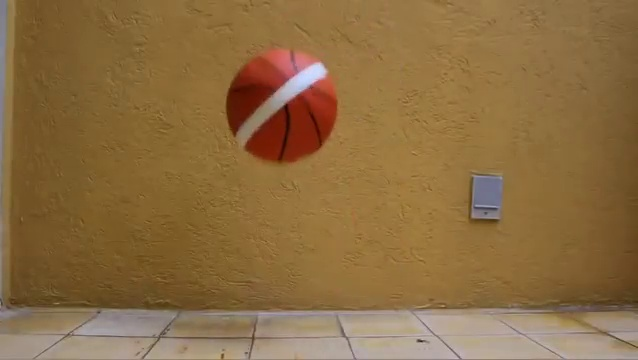ball: (223, 44, 344, 167)
